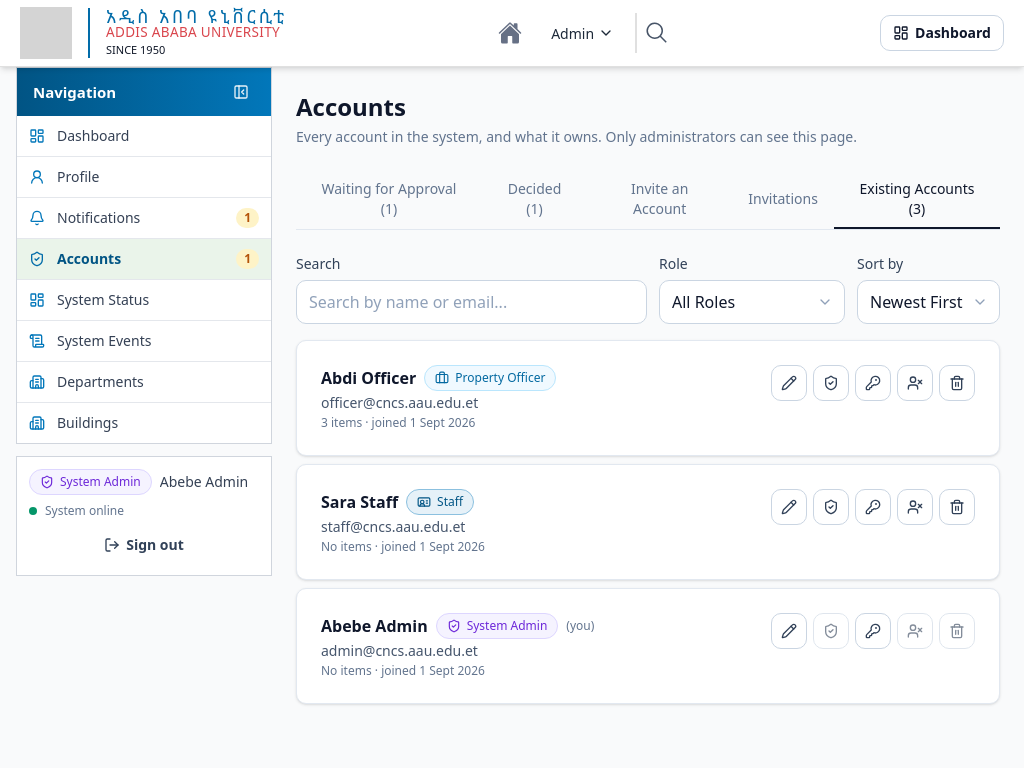
Scenario: /admin/users — inviting a privileged account (T6) › shows a refusal from the server inline, and offers no link
This screenshot has width=1024, height=768.
Click the button "Invite an Account" at (660, 200), box [587,171,732,229]
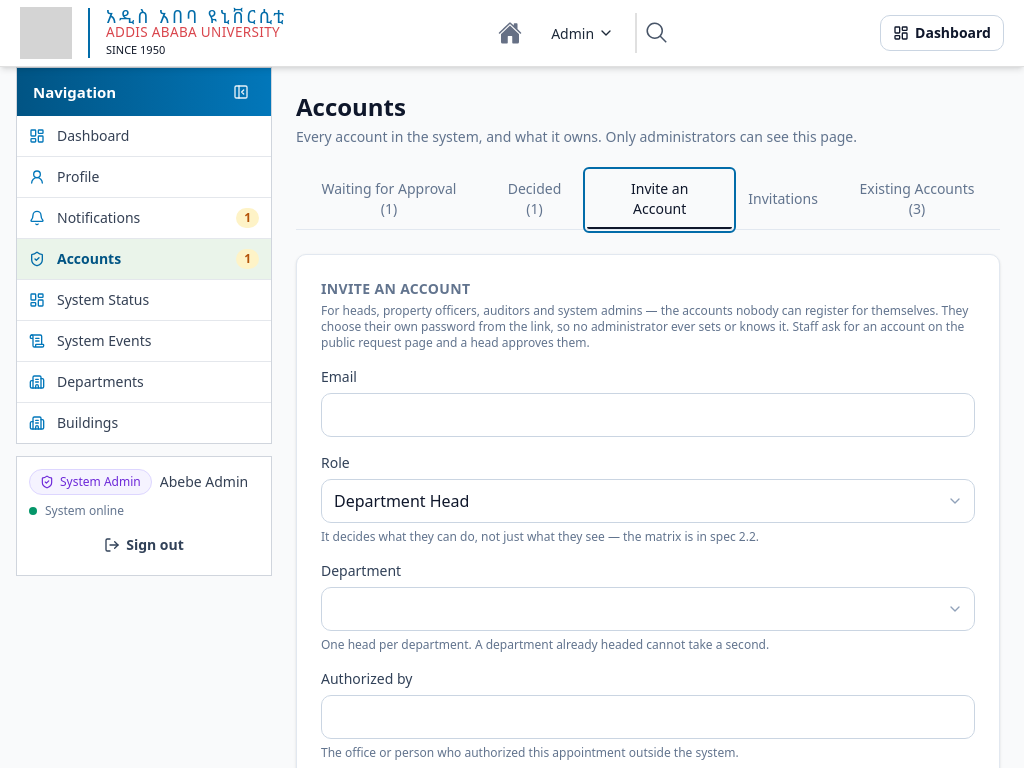
Expected: the heading "Invite an account" is shown, [321,279,470,298]
Type "newhead@cncs.aau.edu.et" into the field labelled "Email" at (648, 415), box [321,393,975,437]
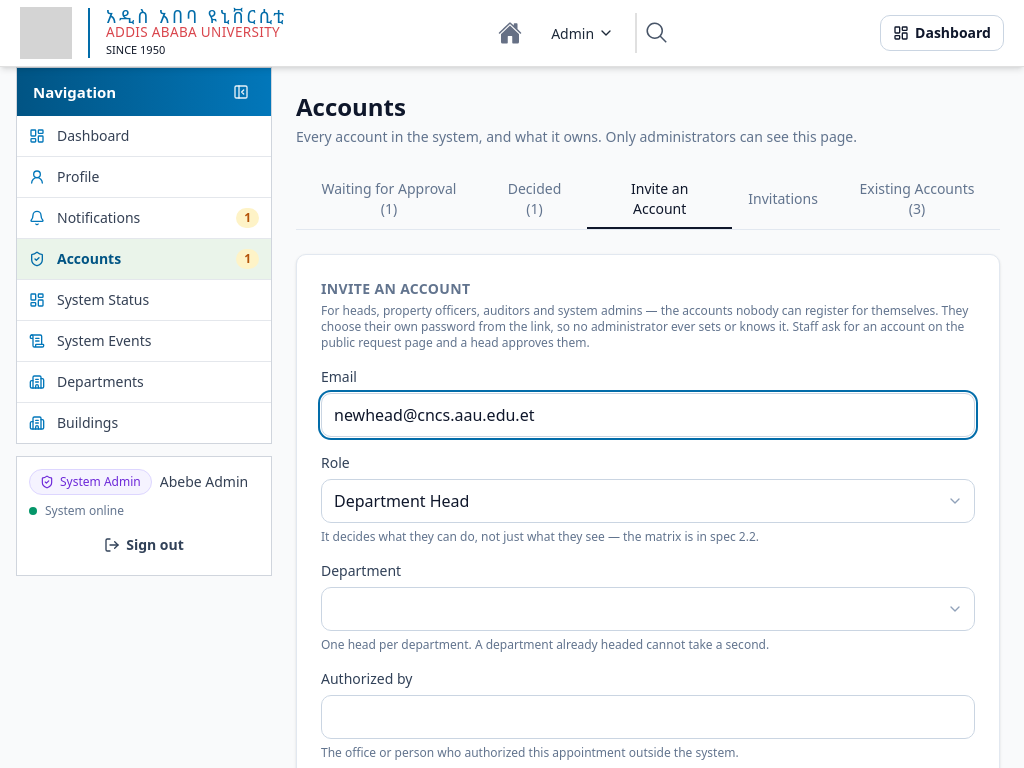
Select "Physics" in the dropdown labelled "Department" at (648, 609), box [321,587,975,631]
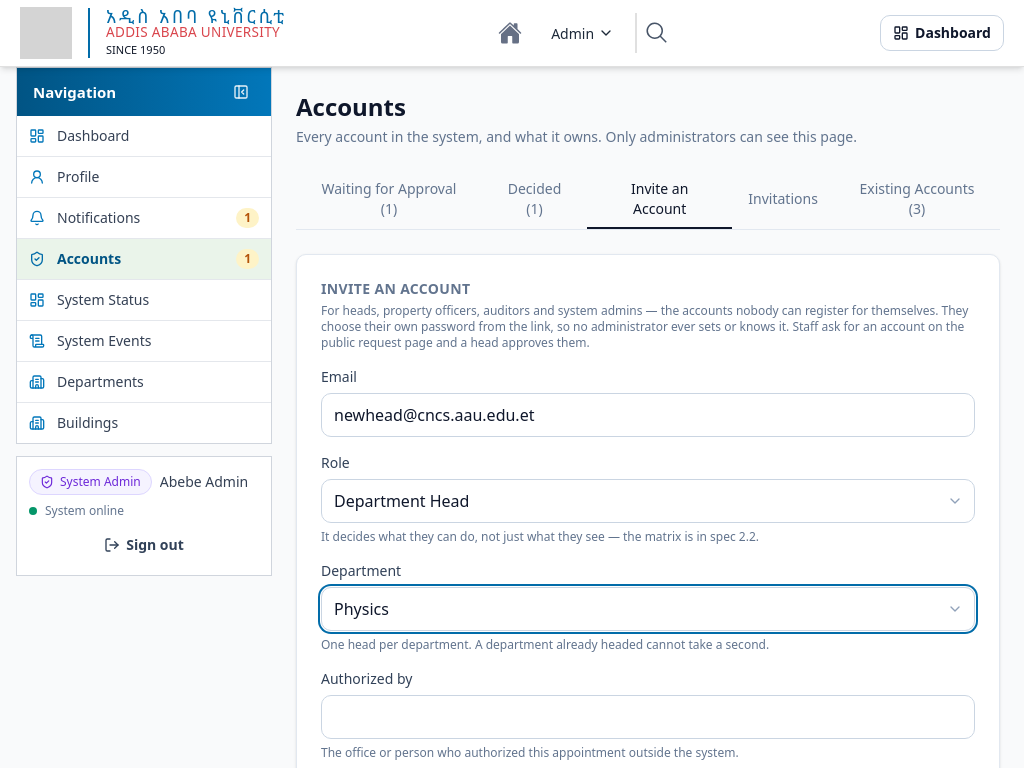
Type "College Office" into the field labelled "Authorized by" at (648, 717), box [321,695,975,739]
(page scrolled)
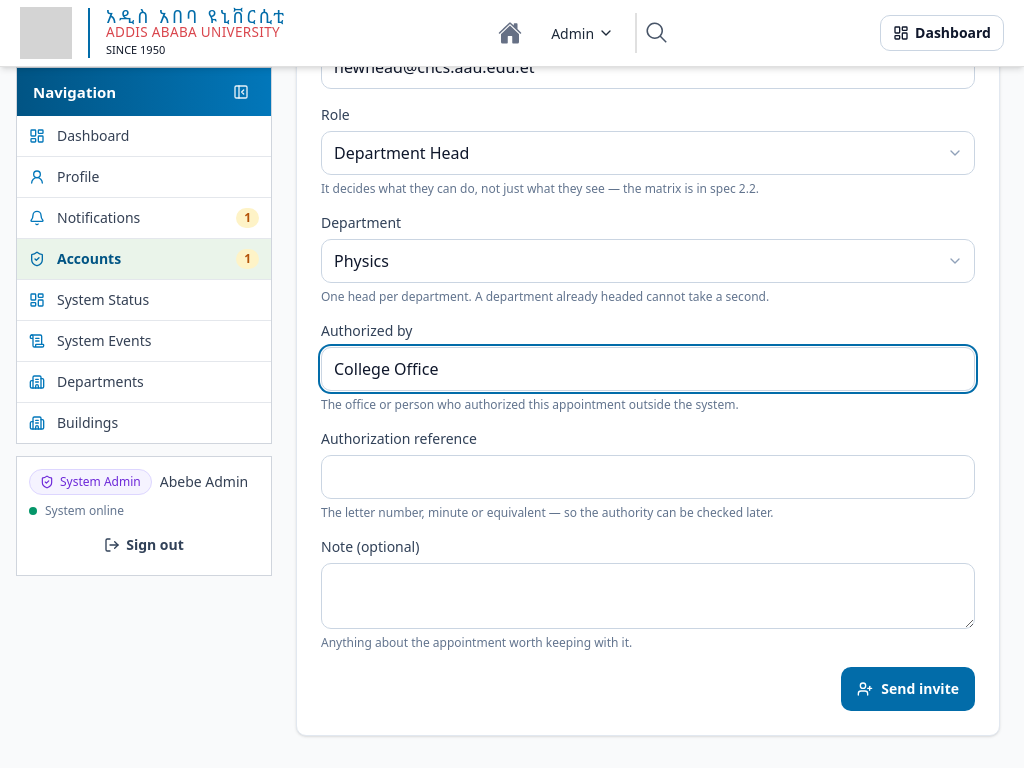
Type "CNCS/HR/2026/117" into the field labelled "Authorization reference" at (648, 477), box [321,455,975,499]
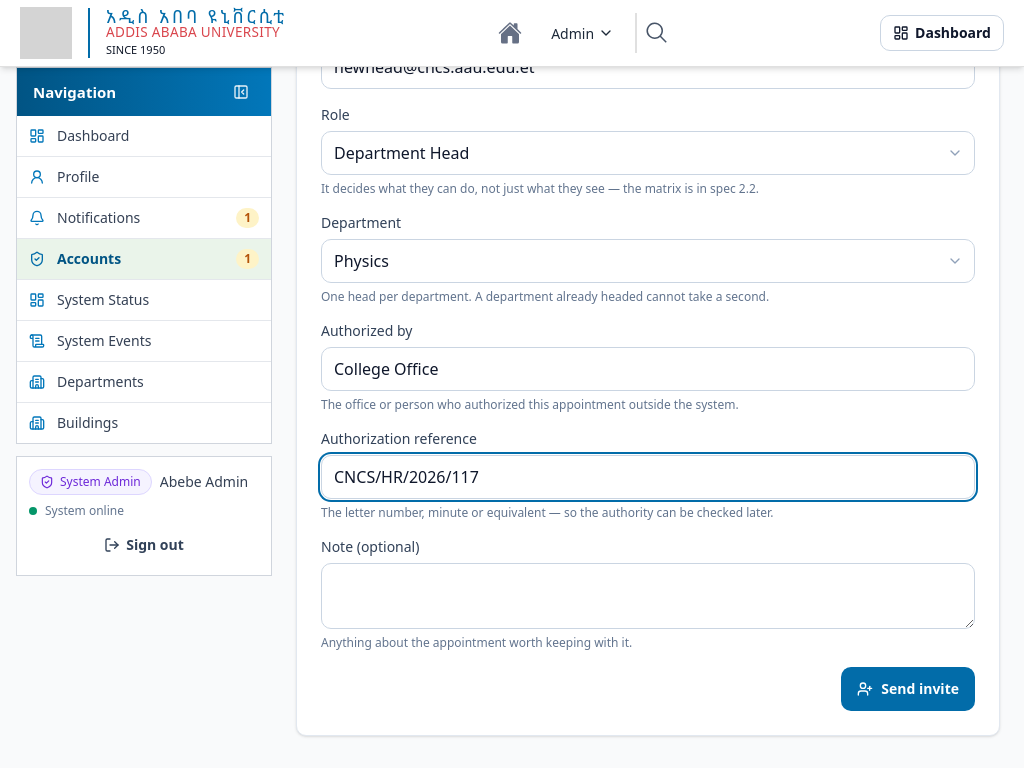
Click the button "Send invite" at (908, 689), box [841,667,975,711]
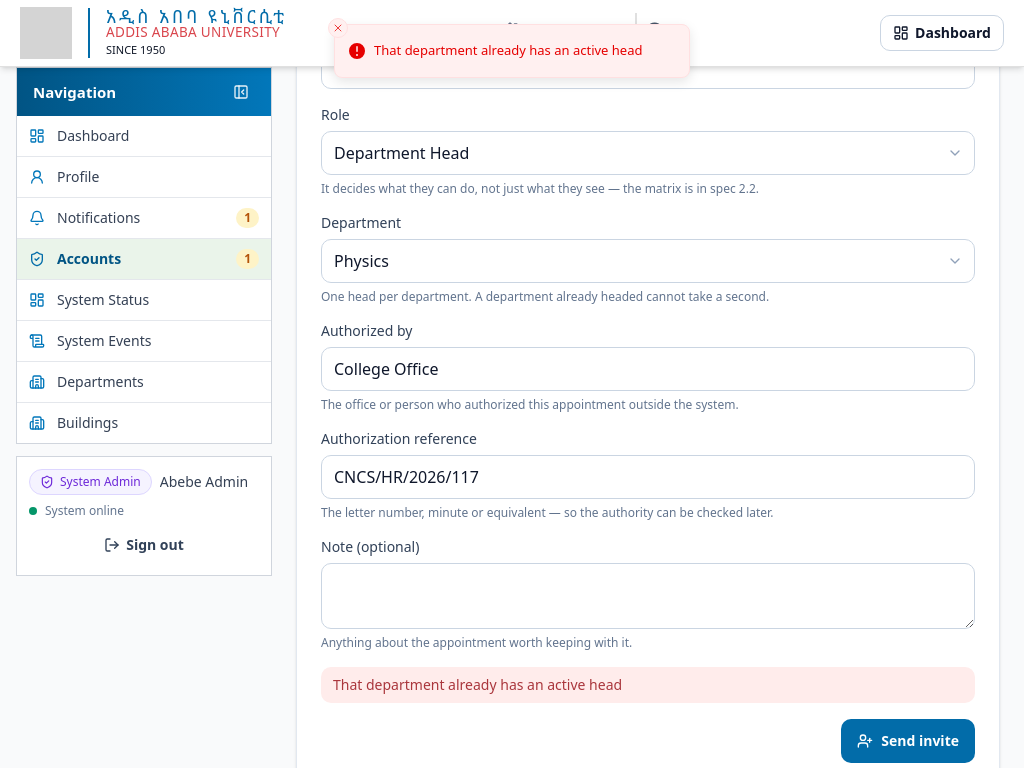
Expected: the text "That department already has an active head" is shown, [321,667,975,703]
